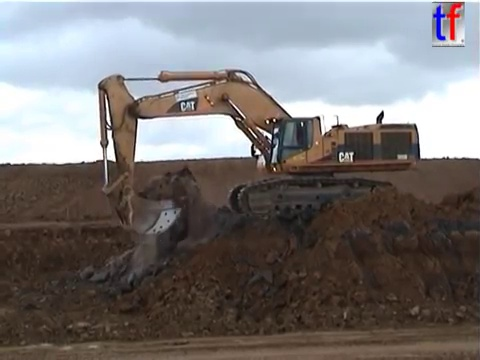excavator: (94, 66, 423, 239)
